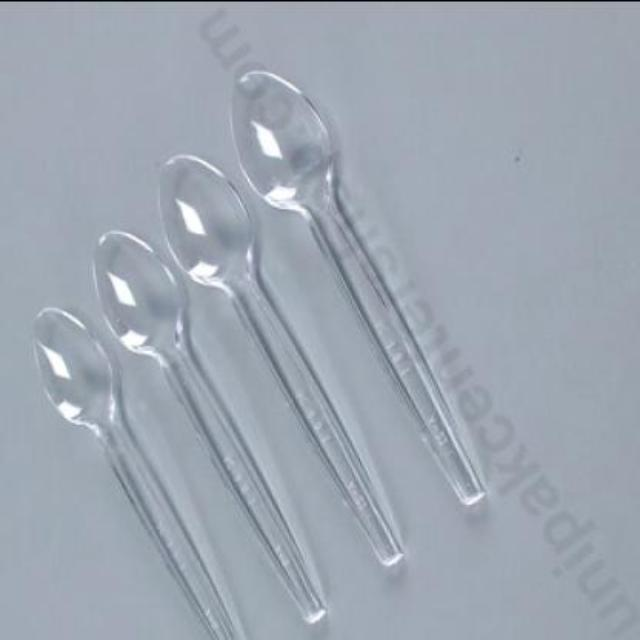plastic_box: (30, 66, 494, 638)
